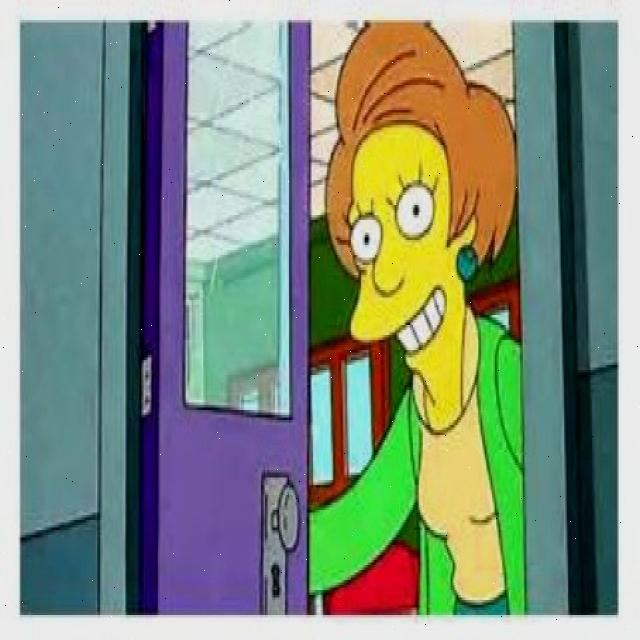Edna Krappel: (322, 20, 524, 435)
